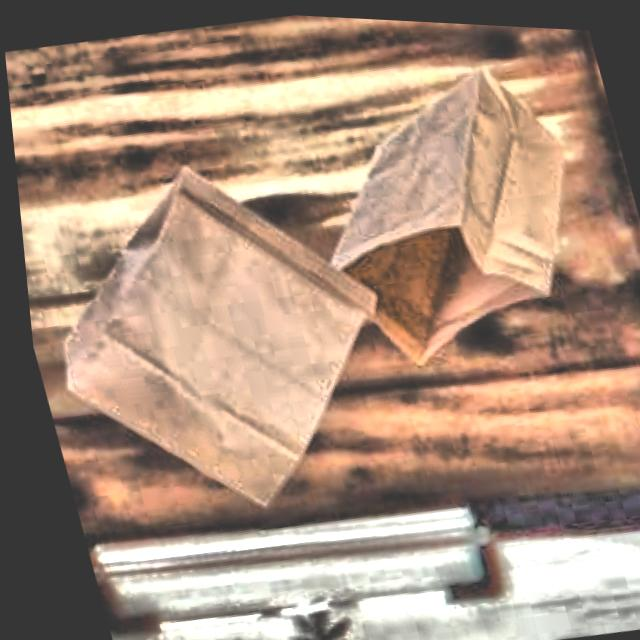Paper-bag: (9, 124, 429, 568), (284, 39, 627, 386)
